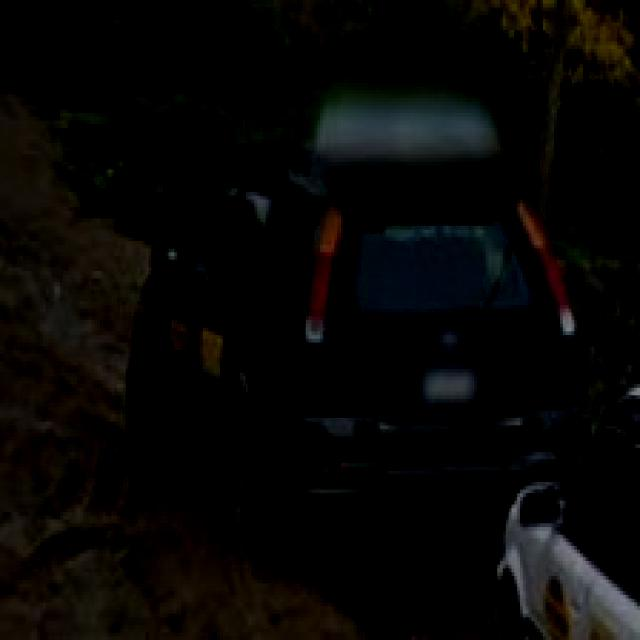car: (133, 124, 588, 532)
